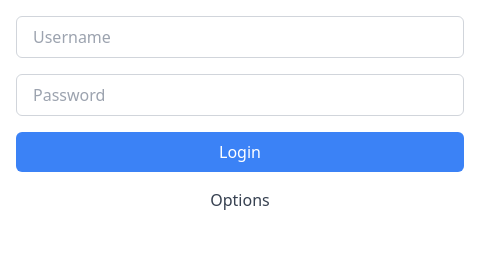
Test: Login › shows error message on invalid credentials
This screenshot has width=481, height=267.
Type "invalid" into the field with placeholder "Username" at (240, 37), box left=16, top=16, right=464, bottom=58
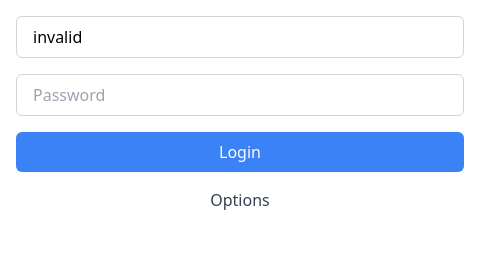
Type "invalid" into the password field with placeholder "Password" at (240, 95), box left=16, top=74, right=464, bottom=116
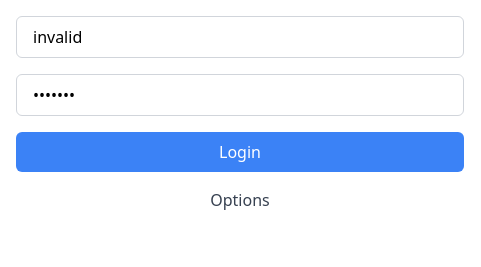
Click the button "Login" at (240, 152), box left=16, top=132, right=464, bottom=172
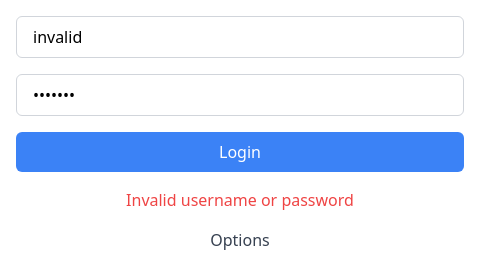
expect the text "Invalid username or password" is shown: met, box left=126, top=188, right=354, bottom=212
